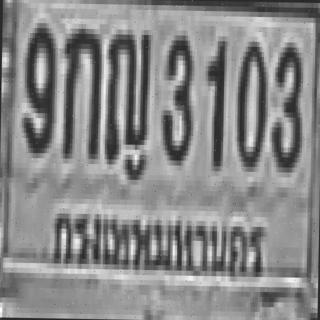A01: (60, 23, 100, 154)
A13: (102, 24, 148, 160)
N00: (234, 36, 266, 167)
N01: (204, 36, 225, 166)
N03: (269, 37, 301, 168), (160, 30, 192, 160)
N09: (21, 20, 54, 150)
P04: (48, 194, 268, 284)
